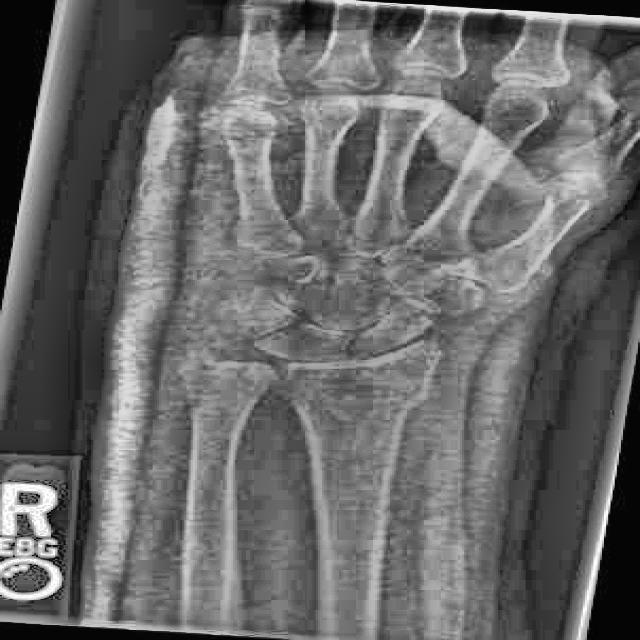wrist positive: (162, 375, 445, 431)
